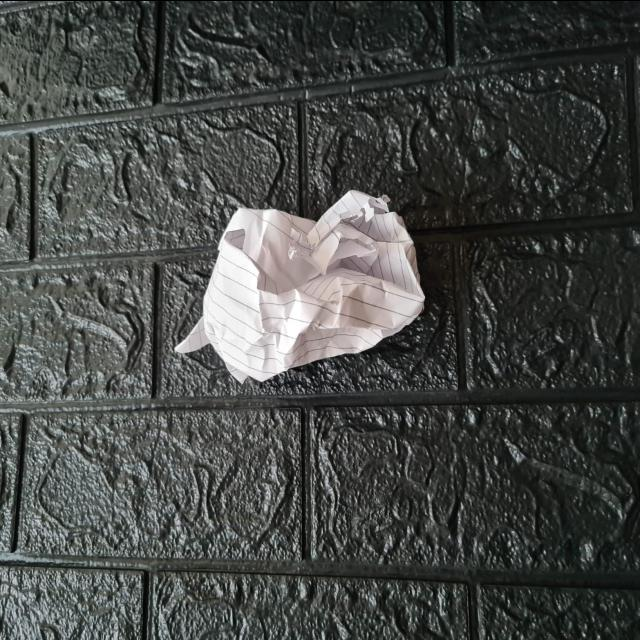kertas: (185, 182, 422, 386)
